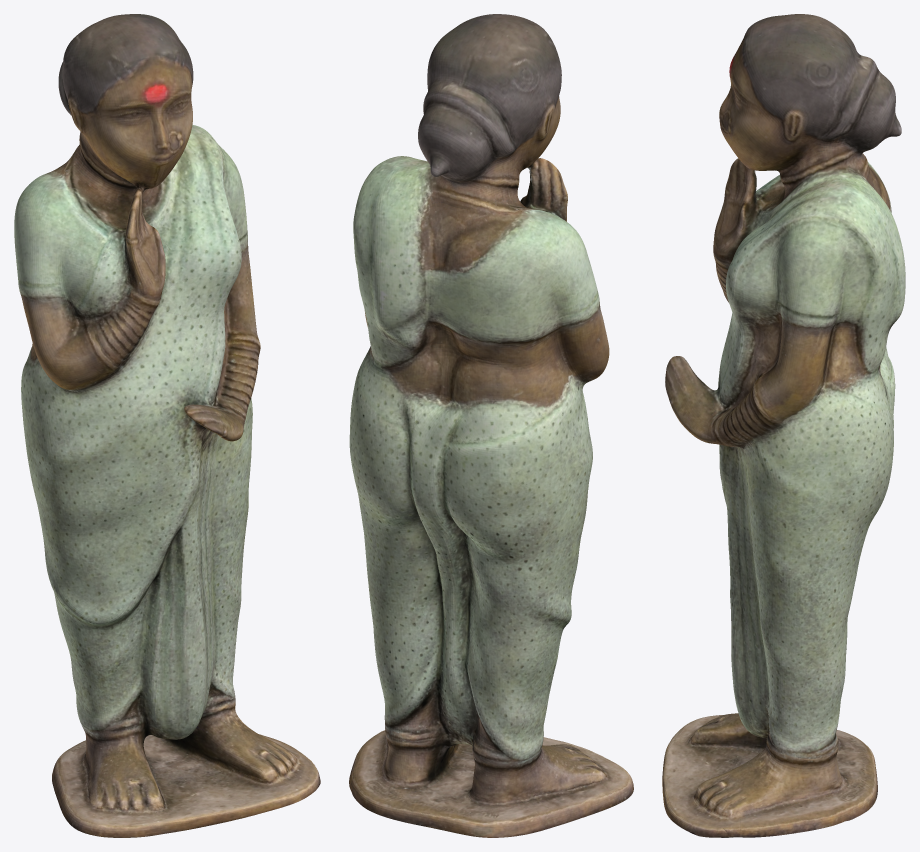
File: female-with-green-saree.glb
3 views of the same model, side by side, from view 1: azimuth 30°, elevation 25°; view 2: azimuth 150°, elevation 25°; view 3: azimuth 270°, elevation 25° (orthographic). The views are drawn at different scales.
Visible parts, largest first — view 1: 03 - Female with green Saree2_edITED; view 2: 03 - Female with green Saree2_edITED; view 3: 03 - Female with green Saree2_edITED.
Boxes of the visible parts, x1,y1,x2,y2 form: 03 - Female with green Saree2_edITED: [14, 14, 320, 837]; 03 - Female with green Saree2_edITED: [349, 14, 633, 837]; 03 - Female with green Saree2_edITED: [662, 14, 905, 837].
Size of the model in its own units: 18.93 by 55.1 by 16.22.
Materials: 2 (1 with a texture image).
